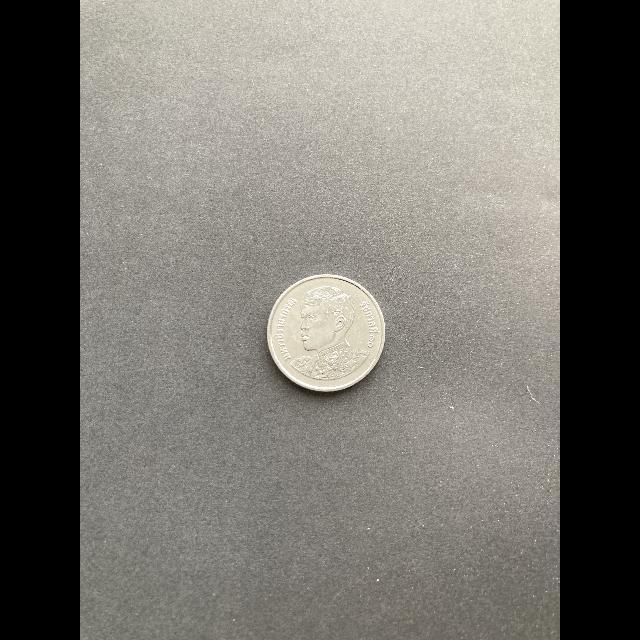1 Bath: (264, 273, 390, 398)
